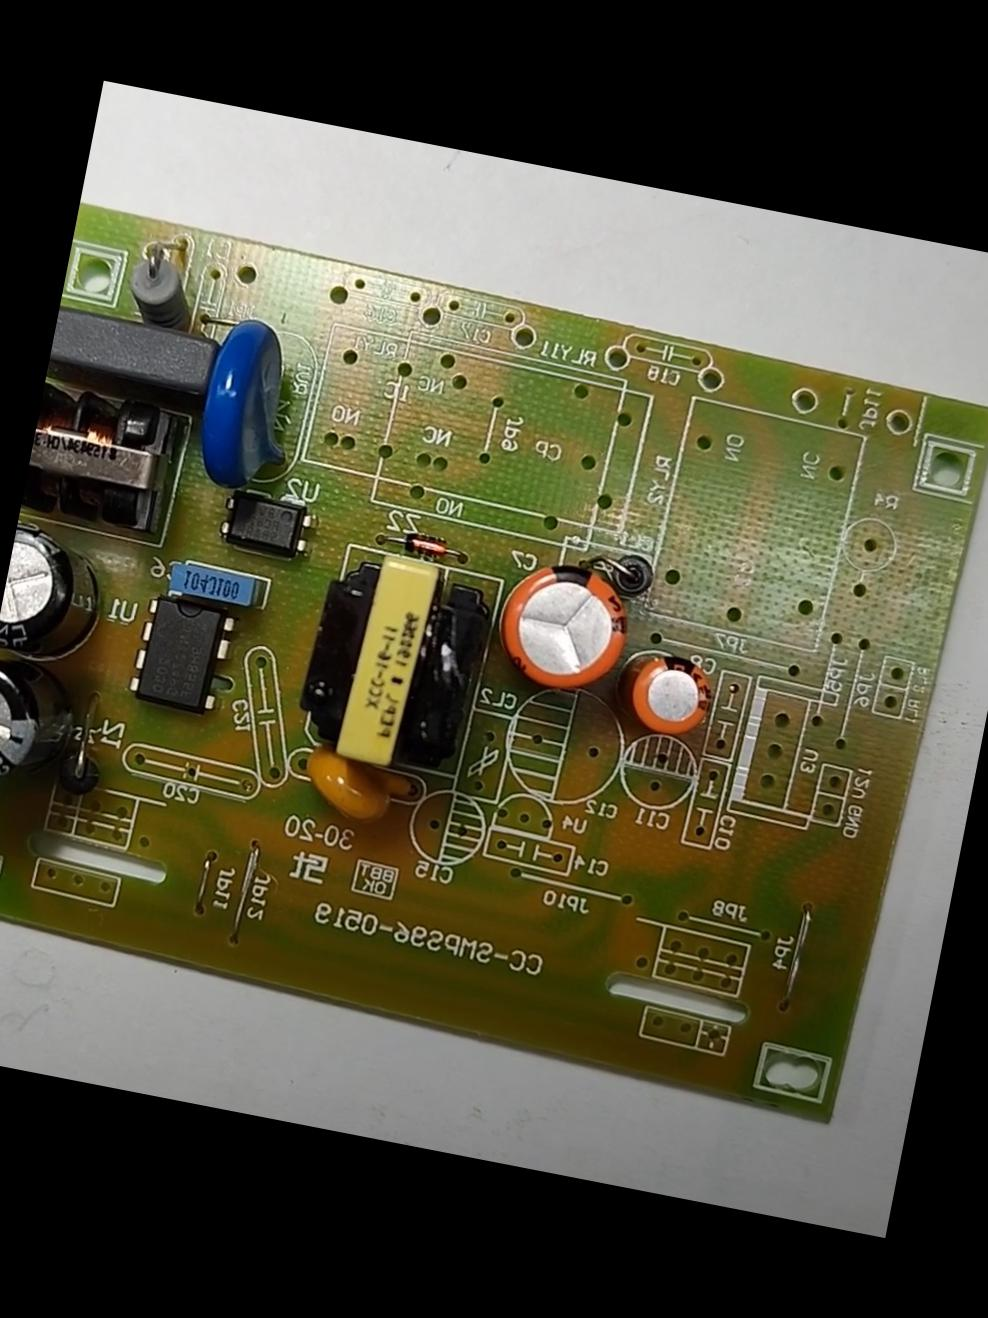Cap1: (490, 552, 646, 701)
Cap2: (619, 648, 722, 741)
Cap3: (0, 523, 110, 672)
Cap4: (0, 656, 79, 807)
MOSFET: (128, 592, 244, 717)
Mov: (187, 309, 310, 497)
Resistor: (117, 238, 210, 328)
Transformer: (283, 544, 500, 784), (20, 376, 183, 539)
